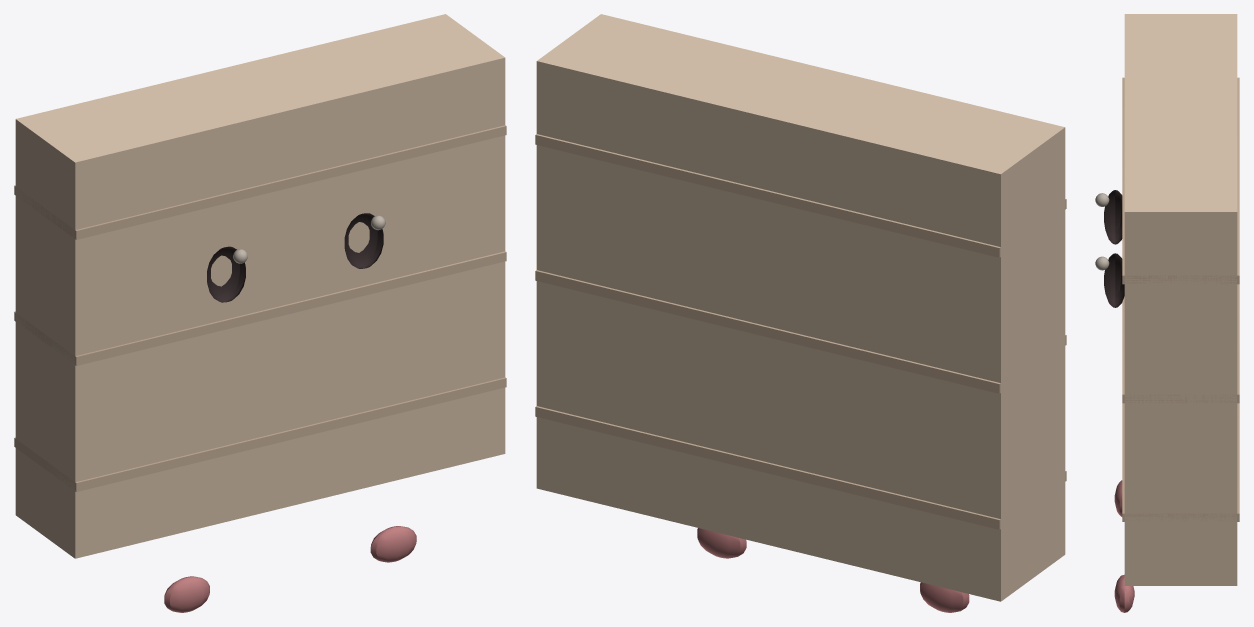
The picture shows the model from 3 angles, left to right: view 1: azimuth 30°, elevation 25°; view 2: azimuth 150°, elevation 25°; view 3: azimuth 270°, elevation 25°; orthographic projection. The views are drawn at different scales.
Visible parts, largest first — view 1: pet_p34e165eb; view 2: pet_p34e165eb; view 3: pet_p34e165eb.
Boxes of the visible parts, x1,y1,x2,y2 form: pet_p34e165eb: (14,14,506,612); pet_p34e165eb: (535,14,1066,612); pet_p34e165eb: (1095,14,1239,612).
Bounding box in the file's own units: 0.5 × 0.5289 × 0.1539.
